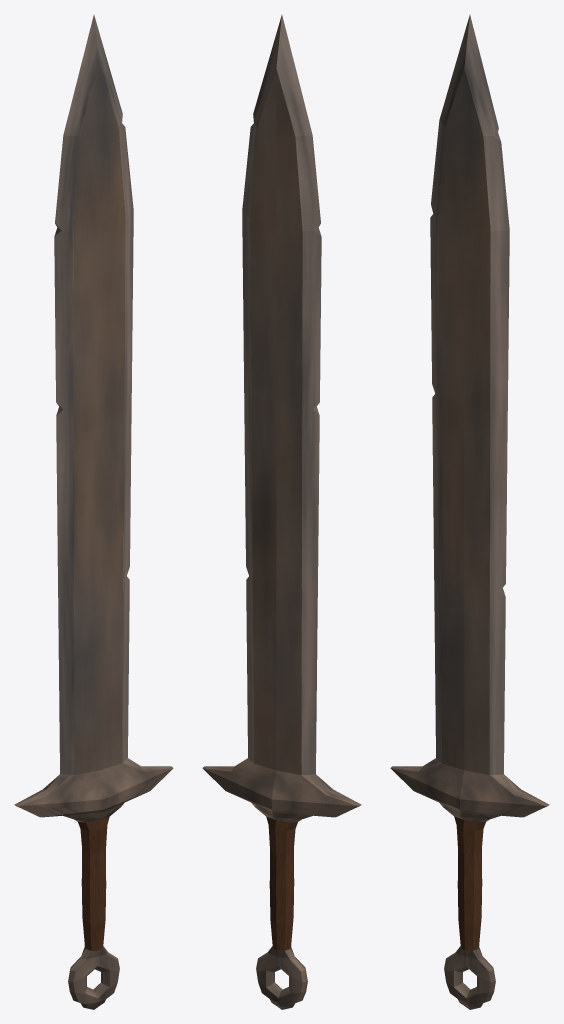
File: OldSword.fbx
3 views of the same model, side by side, from view 1: azimuth 30°, elevation 25°; view 2: azimuth 150°, elevation 25°; view 3: azimuth 330°, elevation 25° (orthographic).
Visible parts, largest first — view 1: OldSword; view 2: OldSword; view 3: OldSword.
Part boxes in pixels (x1=…): OldSword: x1=14, y1=15, x2=173, y2=1009; OldSword: x1=202, y1=15, x2=361, y2=1009; OldSword: x1=390, y1=15, x2=549, y2=1009.
Bounding box in the file's own units: 24.26 × 147 × 5.47.
Materials: 5 (5 with a texture image).
